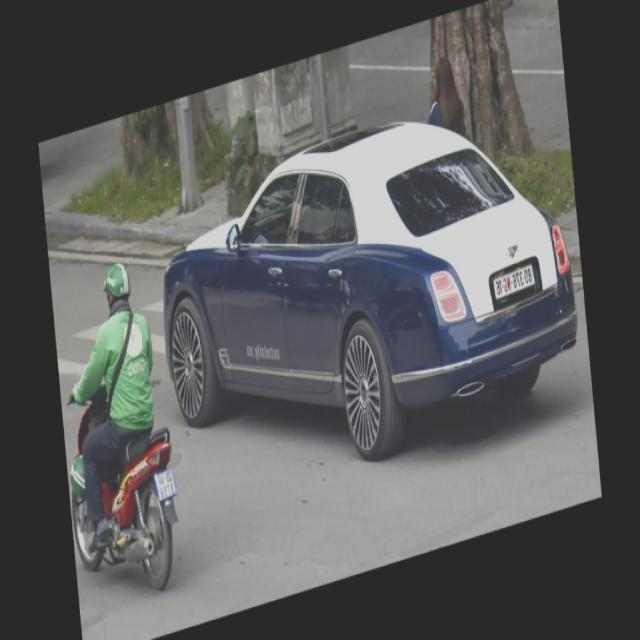bien_ngoai_giao: (489, 264, 537, 307)
bien_trang: (152, 466, 176, 501)
